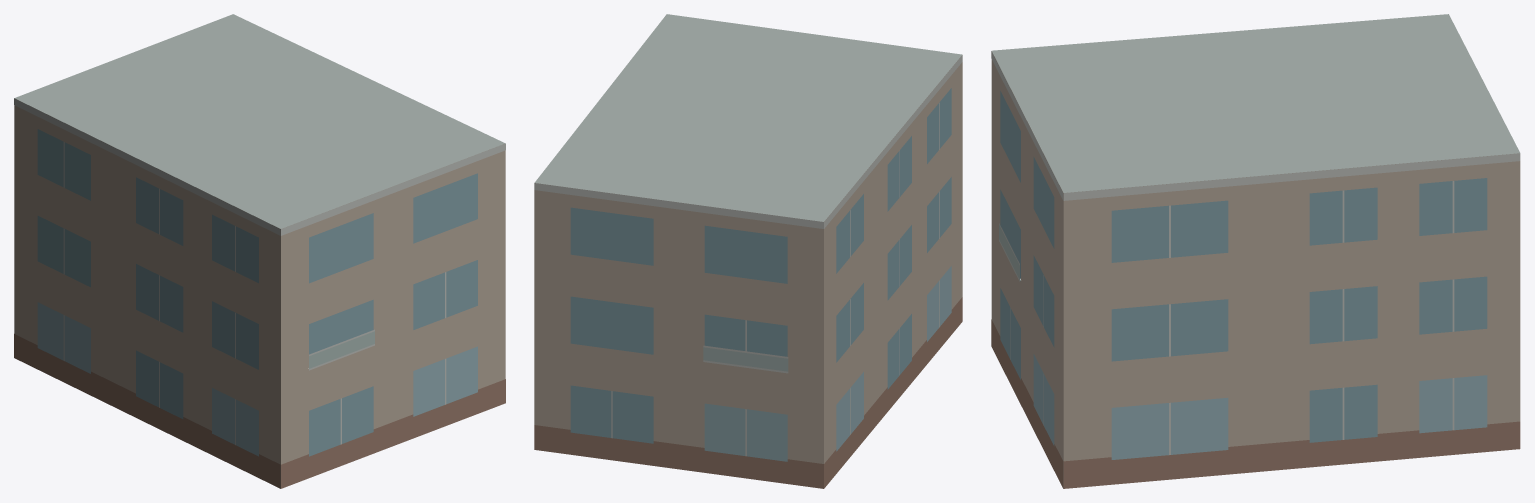
The model's file is survey-upis-33031587.glb.
3 views of the same model, side by side, from view 1: azimuth 30°, elevation 25°; view 2: azimuth 150°, elevation 25°; view 3: azimuth 270°, elevation 25° (orthographic). The views are drawn at different scales.
Parts seen in each view (by area): view 1: survey-upis-33031587.tmp; view 2: survey-upis-33031587.tmp; view 3: survey-upis-33031587.tmp.
Part boxes in pixels (box(x1,y1,x2,y2)): survey-upis-33031587.tmp: box(14, 14, 505, 488); survey-upis-33031587.tmp: box(534, 14, 962, 488); survey-upis-33031587.tmp: box(991, 14, 1520, 488).
Bounding box in the file's own units: 11.89 × 9.15 × 14.84.
